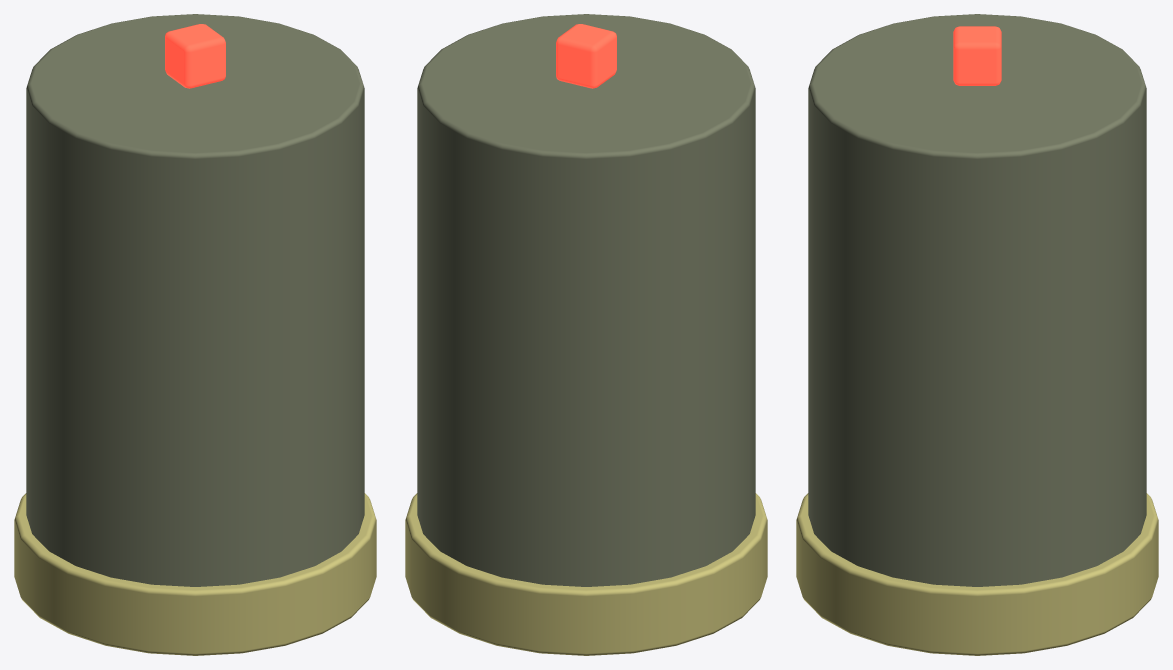
The model's file is sticky_charge.glb.
The picture shows the model from 3 angles, left to right: view 1: azimuth 30°, elevation 25°; view 2: azimuth 150°, elevation 25°; view 3: azimuth 270°, elevation 25°; orthographic projection.
Parts seen in each view (by area): view 1: Body, Gel, Light; view 2: Body, Gel, Light; view 3: Body, Gel, Light.
Part boxes in pixels (x1=…): Body: x1=26, y1=14, x2=364, y2=586; Gel: x1=14, y1=493, x2=376, y2=655; Light: x1=165, y1=24, x2=225, y2=88; Body: x1=417, y1=14, x2=755, y2=586; Gel: x1=405, y1=493, x2=767, y2=655; Light: x1=556, y1=24, x2=616, y2=88; Body: x1=808, y1=14, x2=1146, y2=586; Gel: x1=796, y1=493, x2=1158, y2=655; Light: x1=953, y1=26, x2=1001, y2=85.
Size of the model in its own units: 0.06 by 0.1 by 0.06.
